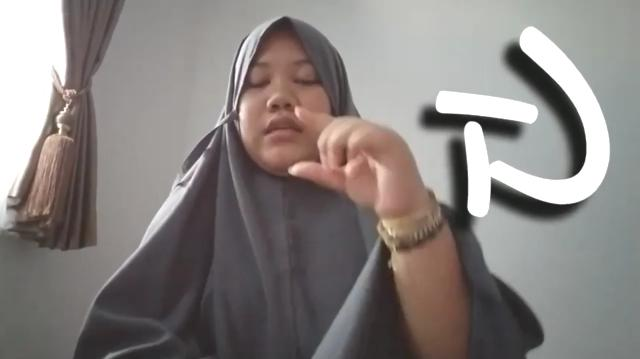G: (286, 103, 419, 203)
